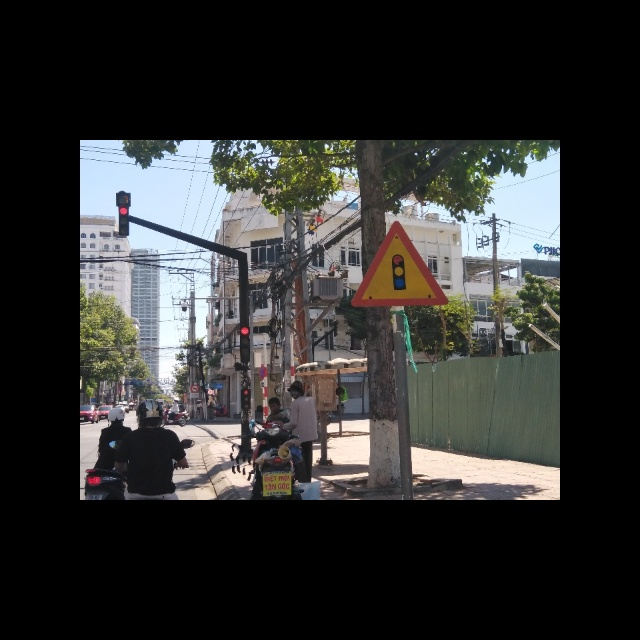Giao nhau có tín hiệu đèn: (349, 221, 452, 309)
Đèn đỏ: (240, 326, 249, 335)
